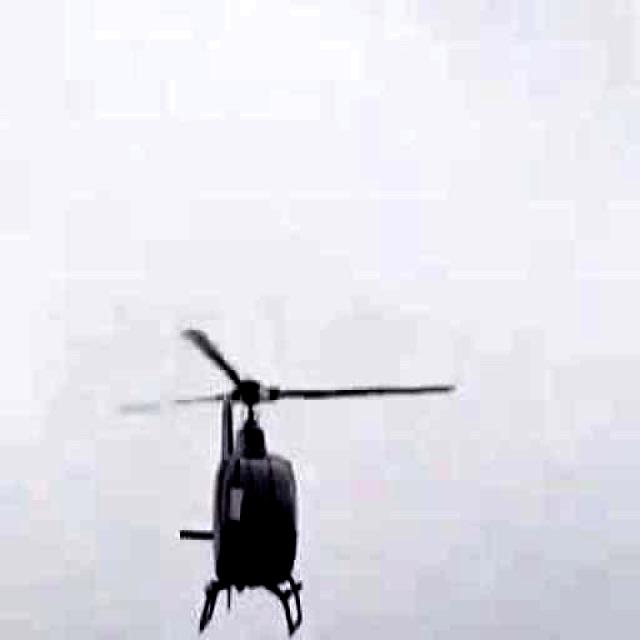drone: (48, 205, 464, 640)
